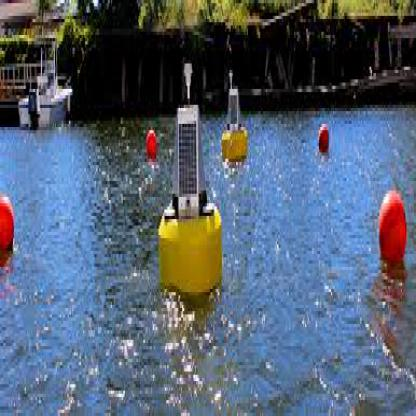buoy: (149, 51, 227, 311), (218, 57, 253, 194)
